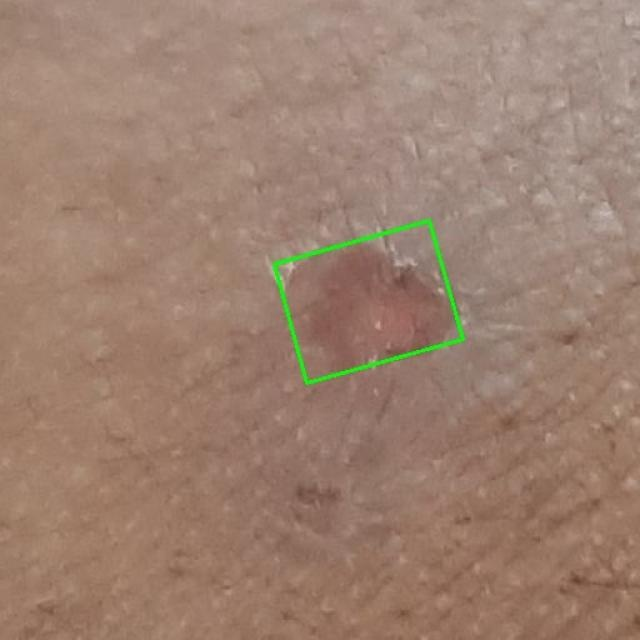Atopic Dermatitis: (274, 221, 463, 383)
